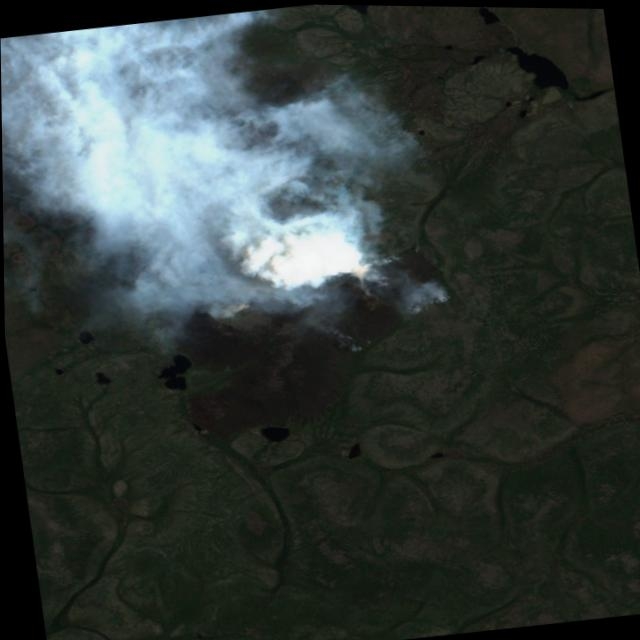fire: (228, 224, 454, 337)
